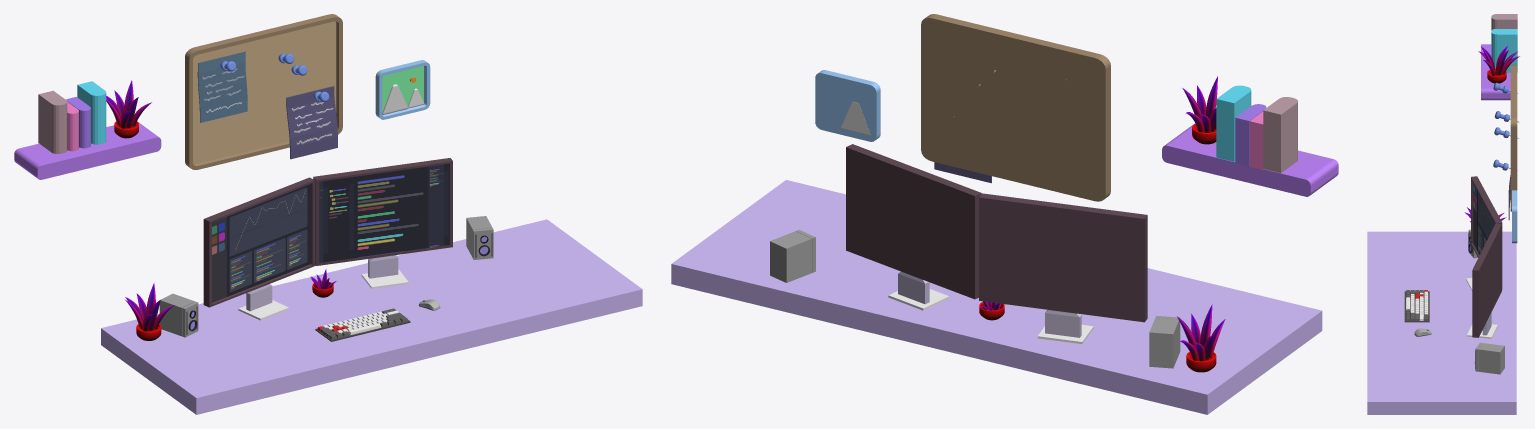
File: my_room_2.glb
The picture shows the model from 3 angles, left to right: view 1: azimuth 30°, elevation 25°; view 2: azimuth 150°, elevation 25°; view 3: azimuth 270°, elevation 25°; orthographic projection. The views are drawn at different scales.
Parts seen in each view (by area): view 1: Plane.001, Plane, Plane.002, Plane.005, Plane.042, Plane.047, Plane.048, Plane.041, Plane.043, Plane.040, Cube.008, Plane.046 (+5 smaller); view 2: Plane.001, Plane, Plane.005, Plane.002, Plane.042, Plane.041, Plane.043, Plane.039, Plane.046, Stylized_potted_plant_3.001, Plane.040, Stylized_potted_plant_3 (+4 smaller); view 3: Plane.001, Plane.002, Plane.005, Plane, Plane.039, Plane.046, Plane.042, Cube.008, Stylized_potted_plant_3, Plane.043, Cube, Plane.041 (+1 smaller).
Boxes of the visible parts, x1=… form: Plane.001: x1=101, y1=219, x2=642, y2=414; Plane: x1=185, y1=14, x2=342, y2=169; Plane.002: x1=313, y1=158, x2=452, y2=265; Plane.005: x1=203, y1=177, x2=315, y2=307; Plane.042: x1=14, y1=121, x2=161, y2=179; Plane.047: x1=286, y1=86, x2=337, y2=159; Plane.048: x1=197, y1=51, x2=247, y2=122; Plane.041: x1=375, y1=60, x2=430, y2=119; Plane.043: x1=38, y1=90, x2=67, y2=153; Plane.040: x1=159, y1=293, x2=198, y2=337; Cube.008: x1=317, y1=308, x2=407, y2=339; Plane.046: x1=77, y1=81, x2=106, y2=144; Plane.001: x1=671, y1=180, x2=1322, y2=414; Plane: x1=921, y1=14, x2=1110, y2=201; Plane.005: x1=979, y1=193, x2=1147, y2=322; Plane.002: x1=846, y1=144, x2=981, y2=299; Plane.042: x1=1162, y1=125, x2=1338, y2=196; Plane.041: x1=815, y1=70, x2=880, y2=141; Plane.043: x1=1263, y1=97, x2=1297, y2=172; Plane.039: x1=770, y1=229, x2=815, y2=282; Plane.046: x1=1216, y1=85, x2=1251, y2=161; Stylized_potted_plant_3.001: x1=1177, y1=304, x2=1225, y2=372; Plane.040: x1=1149, y1=315, x2=1180, y2=368; Stylized_potted_plant_3: x1=1182, y1=76, x2=1217, y2=144; Plane.001: x1=1367, y1=231, x2=1516, y2=414; Plane.002: x1=1472, y1=223, x2=1501, y2=337; Plane.005: x1=1471, y1=176, x2=1502, y2=289; Plane: x1=1510, y1=65, x2=1517, y2=211; Plane.039: x1=1474, y1=342, x2=1504, y2=374; Plane.046: x1=1491, y1=29, x2=1517, y2=72; Plane.042: x1=1481, y1=44, x2=1510, y2=100; Cube.008: x1=1406, y1=290, x2=1428, y2=320; Stylized_potted_plant_3: x1=1478, y1=46, x2=1519, y2=83; Plane.043: x1=1491, y1=14, x2=1517, y2=30; Cube: x1=1404, y1=291, x2=1429, y2=322; Plane.041: x1=1512, y1=190, x2=1517, y2=243.
Size of the model in its own units: 5.39 by 2.66 by 1.72.
Materials: 17 (6 with a texture image).
